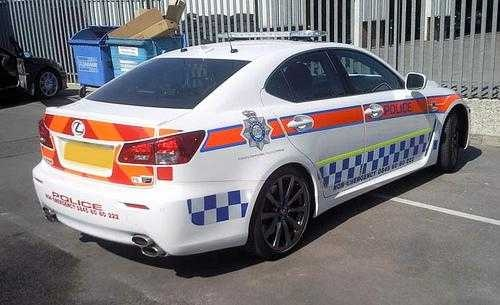Police Car: (42, 24, 483, 229)
